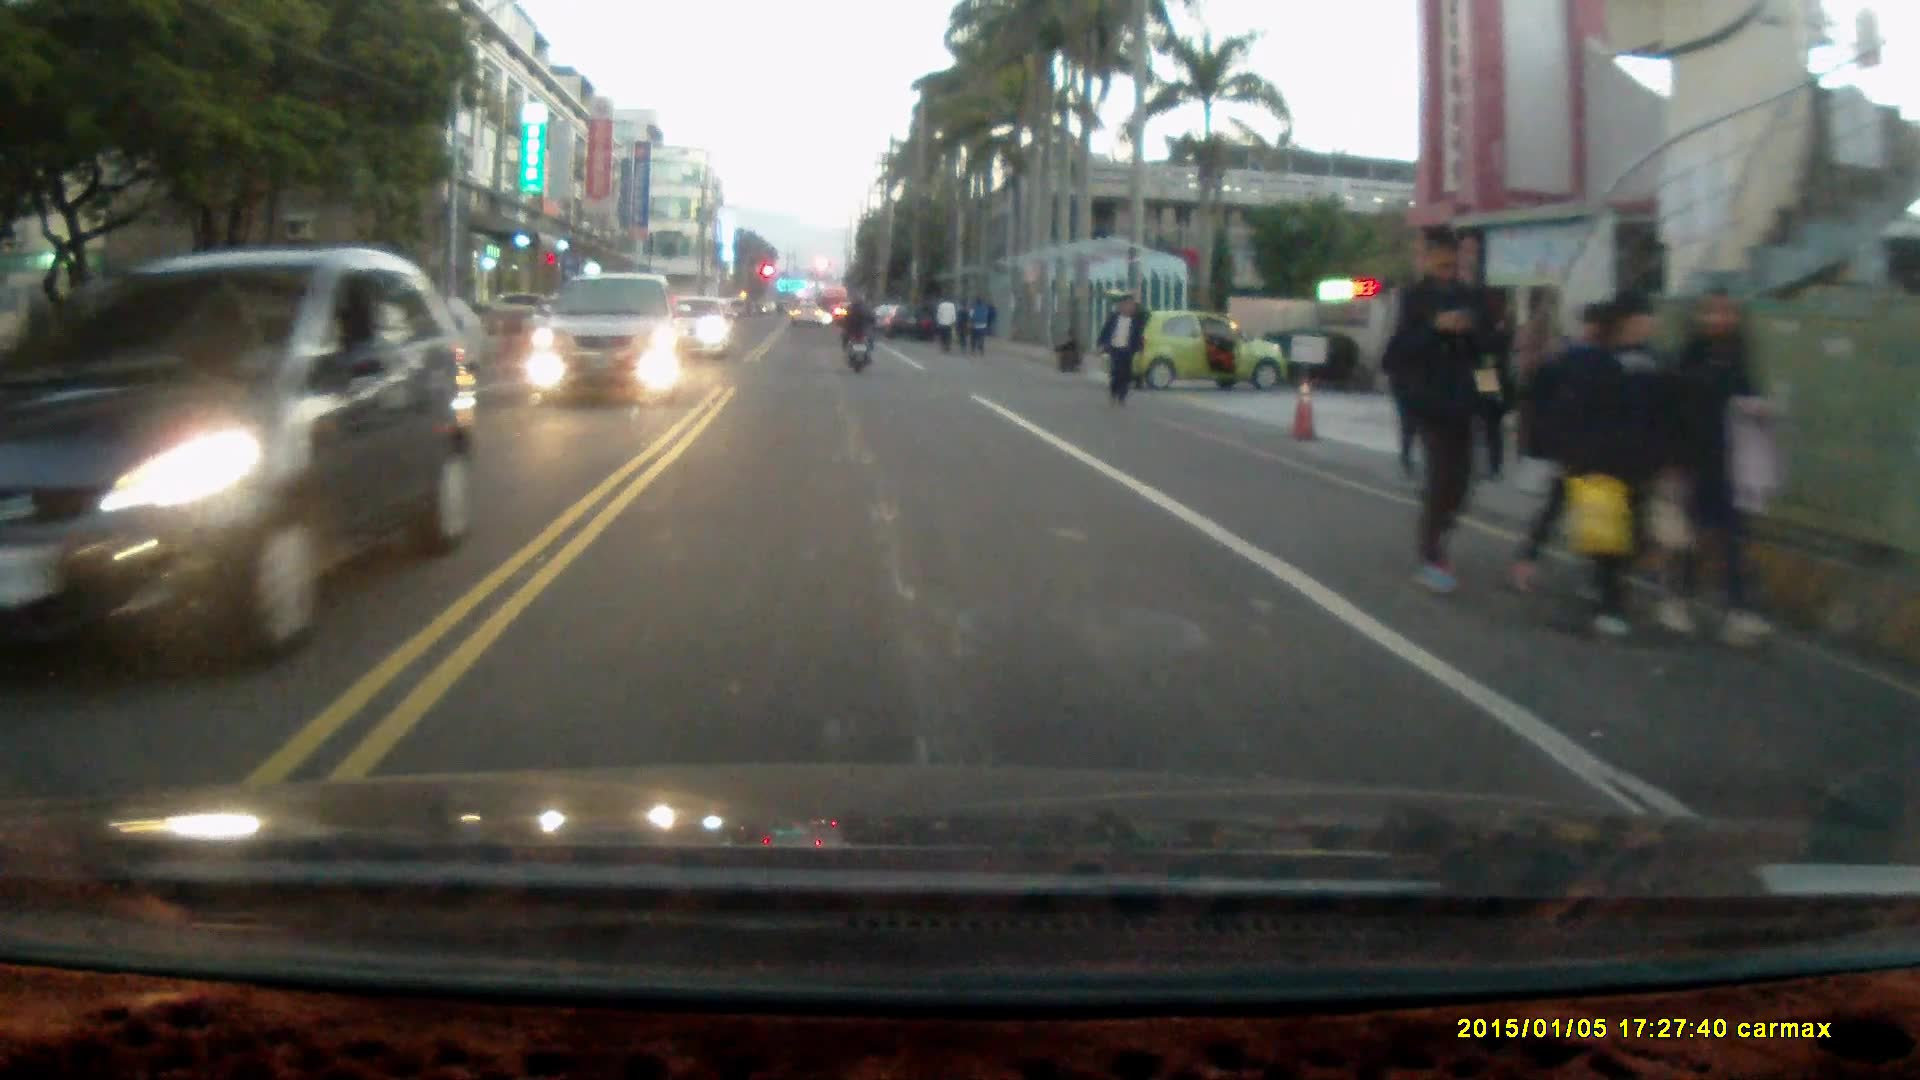pedestrian: (1547, 279, 1673, 644), (1663, 285, 1777, 651), (1391, 225, 1502, 600), (1095, 292, 1142, 407), (1051, 323, 1084, 376), (964, 290, 990, 354), (936, 288, 958, 353)
rider: (837, 289, 877, 373)
vehicle: (5, 242, 504, 643), (530, 271, 690, 398), (1101, 288, 1285, 393), (652, 292, 737, 358)
